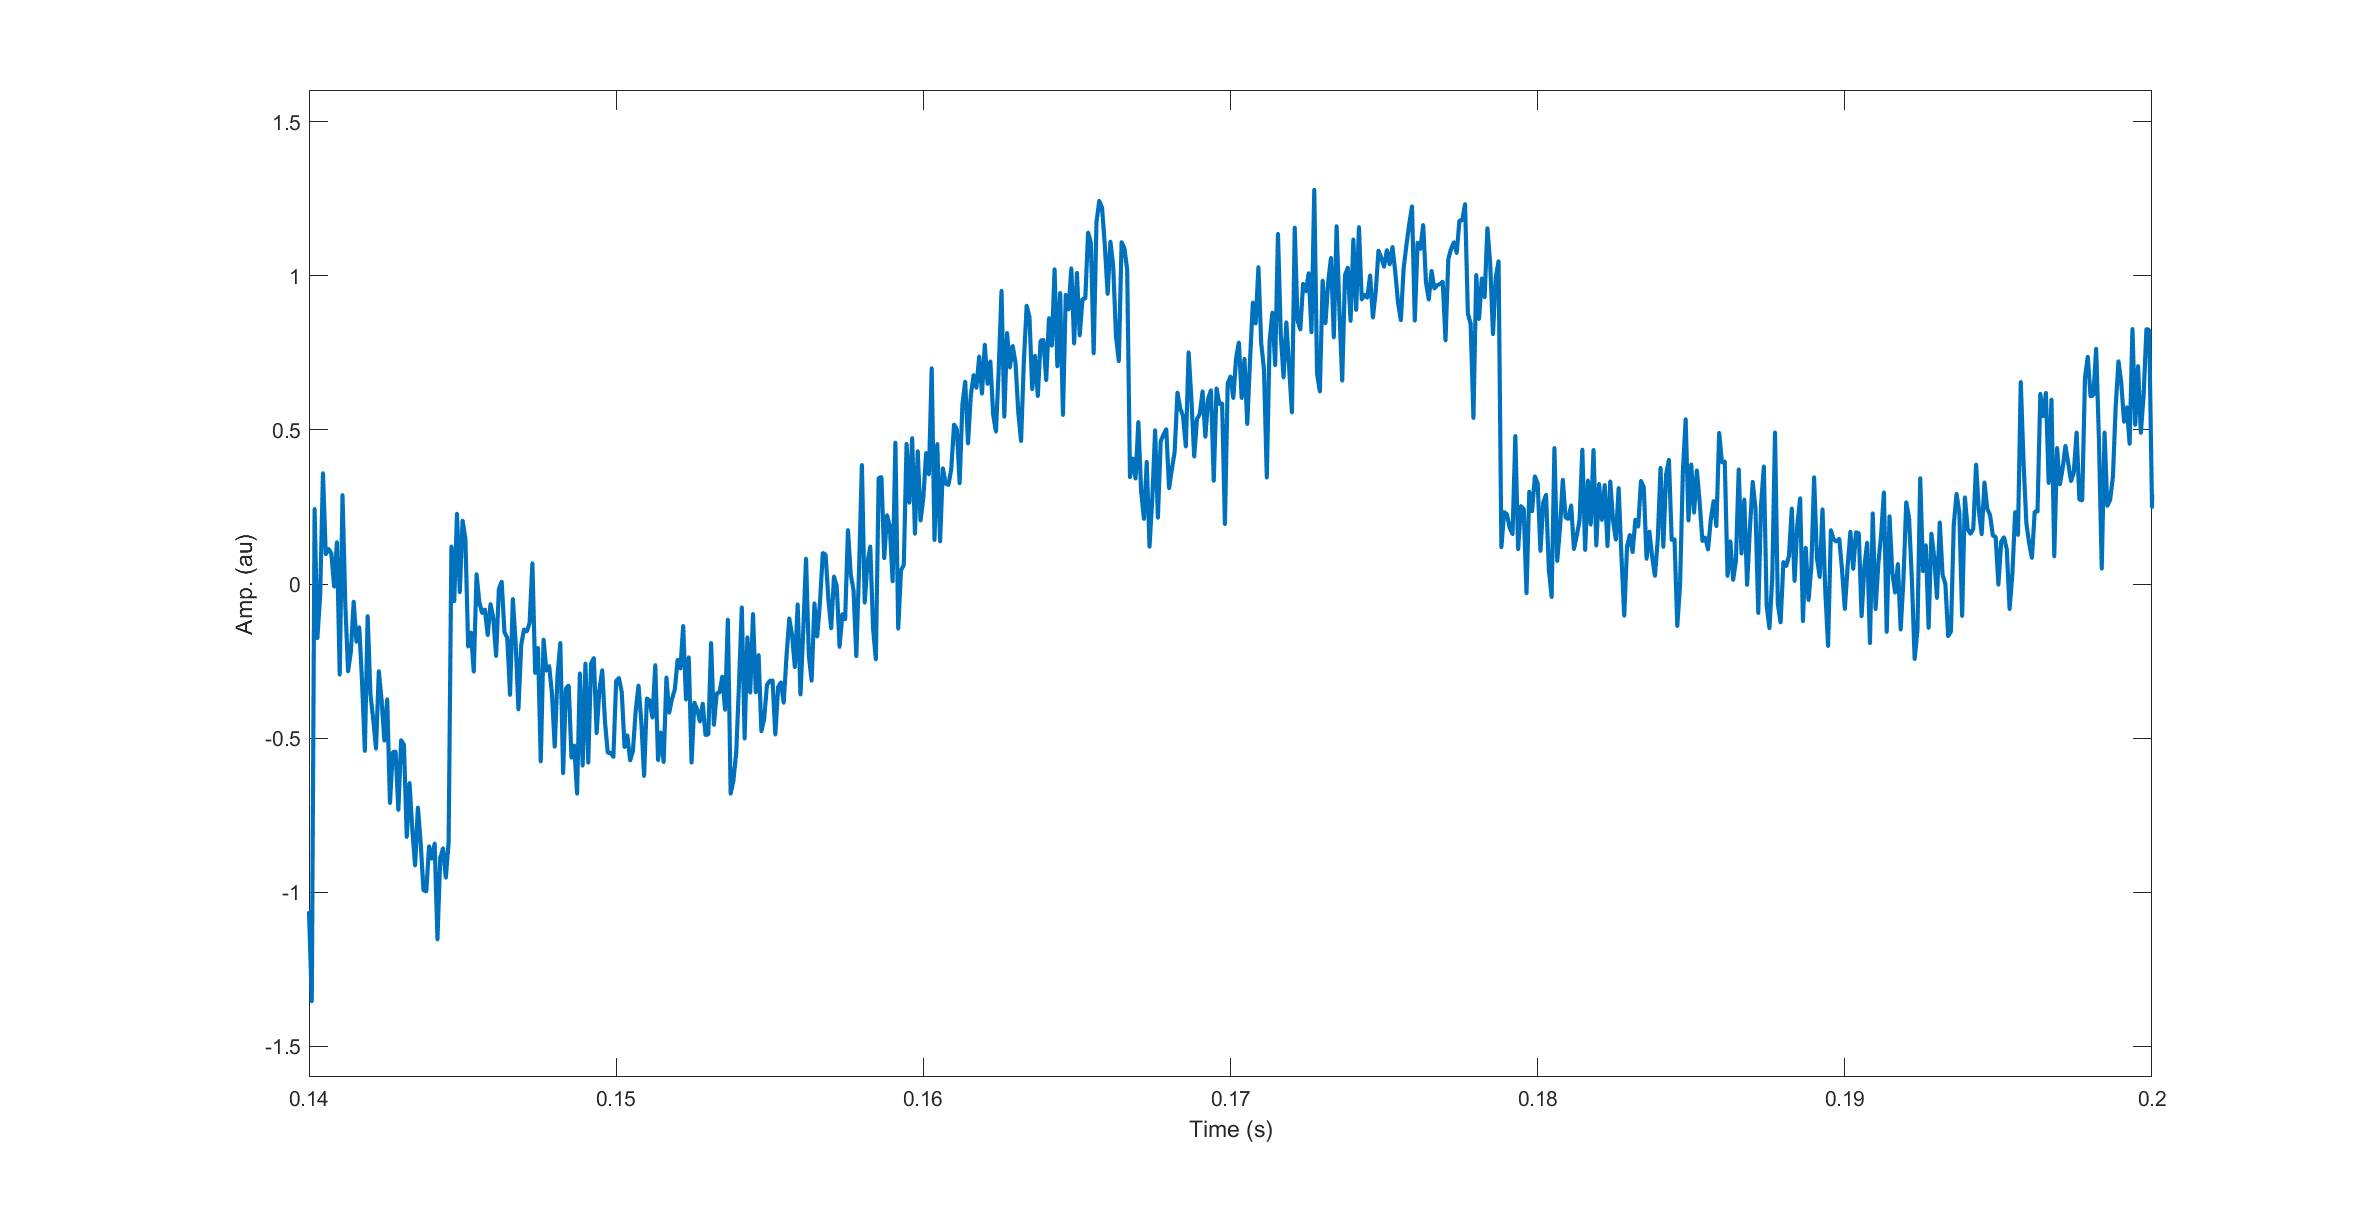negative_fringe: (304, 460, 434, 1003), (435, 502, 586, 934)
positive_fringe: (1181, 181, 1517, 528), (949, 181, 1136, 525)
